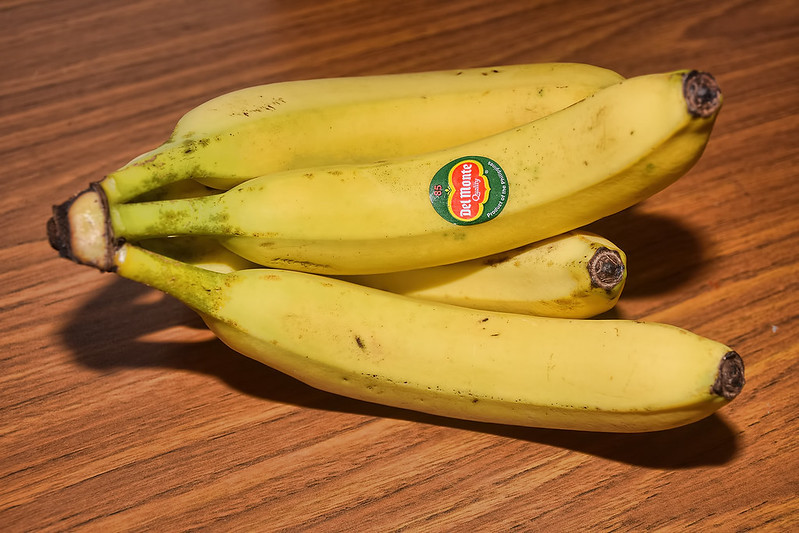banana: (145, 65, 737, 431)
